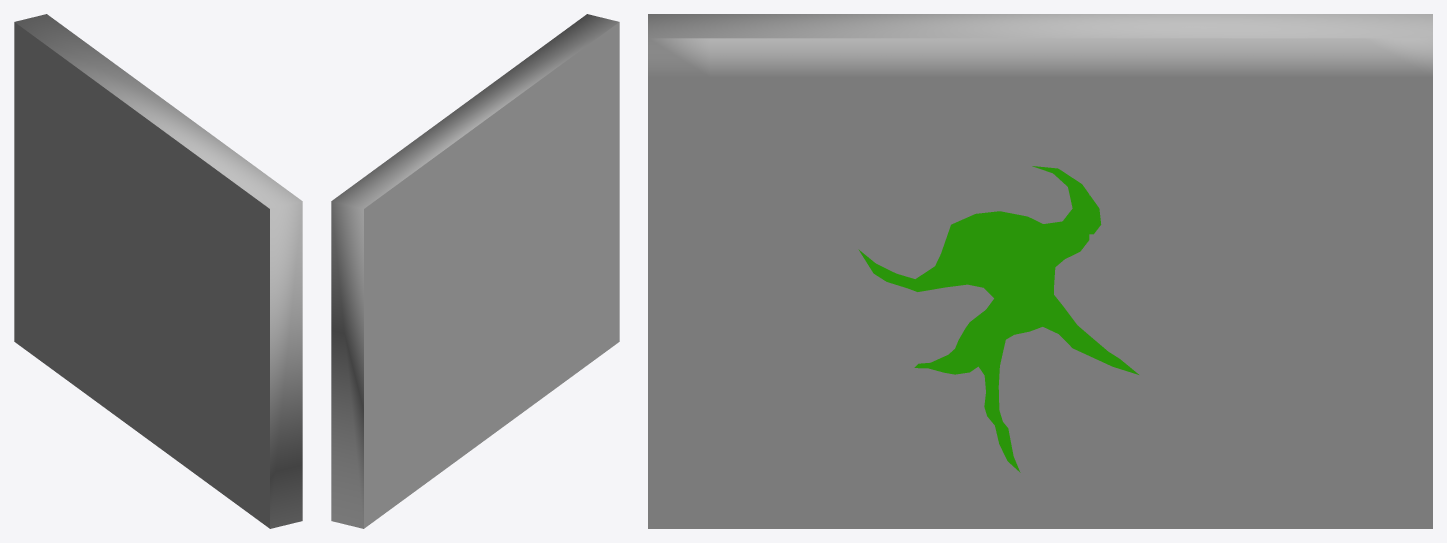
Rendered from Mesh_Moving_Wall_Weakspot.fbx.
3 renders of one model, left to right at view 1: azimuth 30°, elevation 25°; view 2: azimuth 150°, elevation 25°; view 3: azimuth 270°, elevation 25°, orthographic. The views are drawn at different scales.
Parts seen in each view (by area): view 1: Plane; view 2: Plane; view 3: Plane.
Boxes of the visible parts, <box> form: Plane: <box>14,14,302,528</box>; Plane: <box>331,14,619,528</box>; Plane: <box>648,14,1432,528</box>.
Bounding box in the file's own units: 61.51 × 579 × 840.
